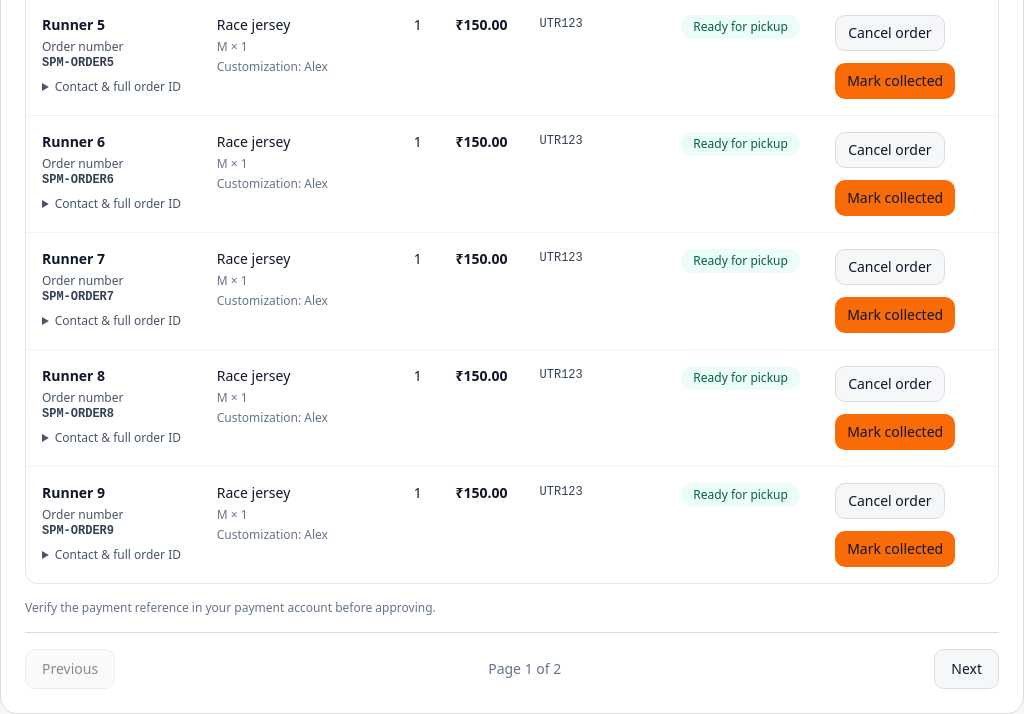
Test: filters and paginates orders, and confirms rejection before submitting
The image size is (1024, 714).
(page scrolled)
expect the text "Runner 11" is not shown: met
Click the button "Next" at (967, 669), box [934,649,999,689]
(page scrolled)
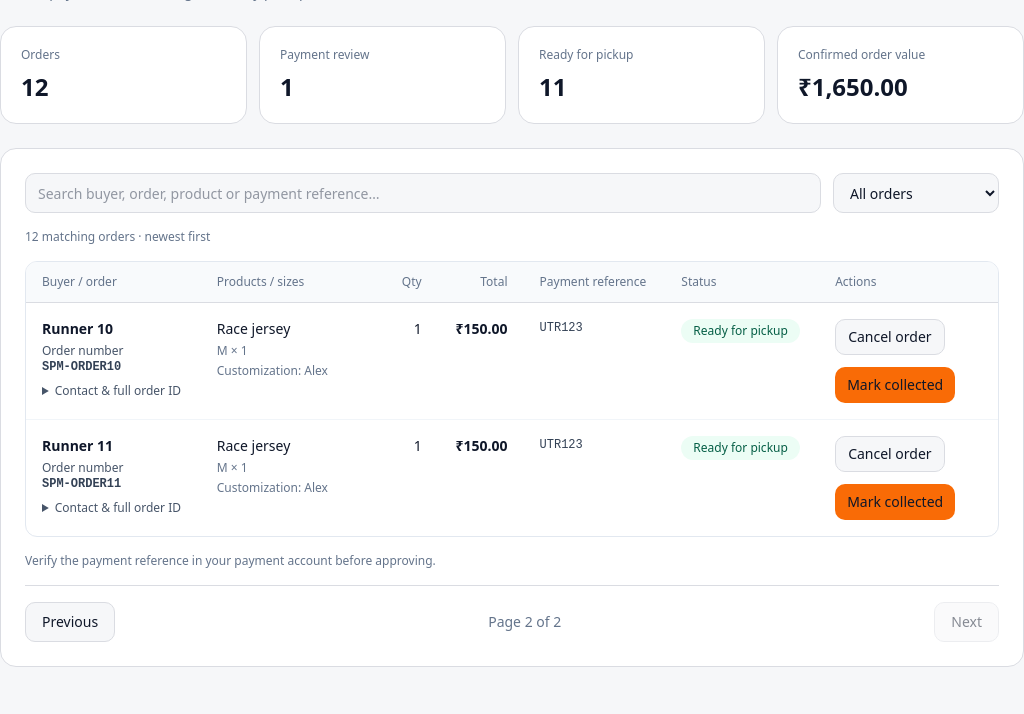
expect the text "Runner 11" is shown: met, box [42,436,113,455]
Select "Payment review" in the dropdown named "Order status" at (916, 193), box [833,173,999,213]
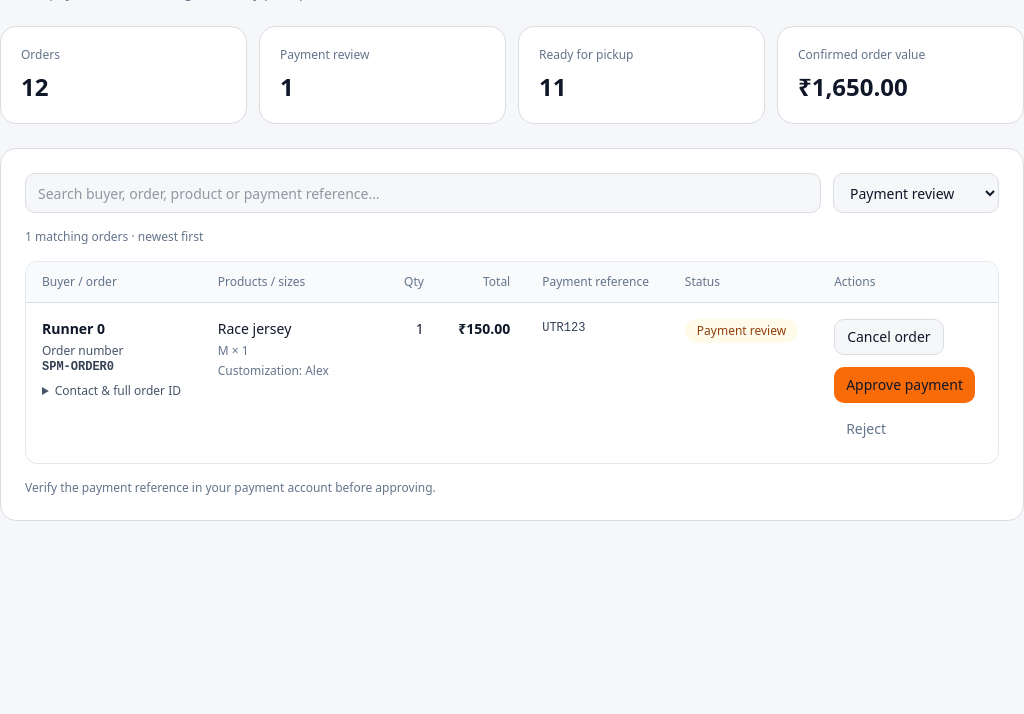
expect the text "Runner 0" is shown: met, box [42,319,105,338]
Click the button "Reject" at (866, 429), box [834,411,898,447]
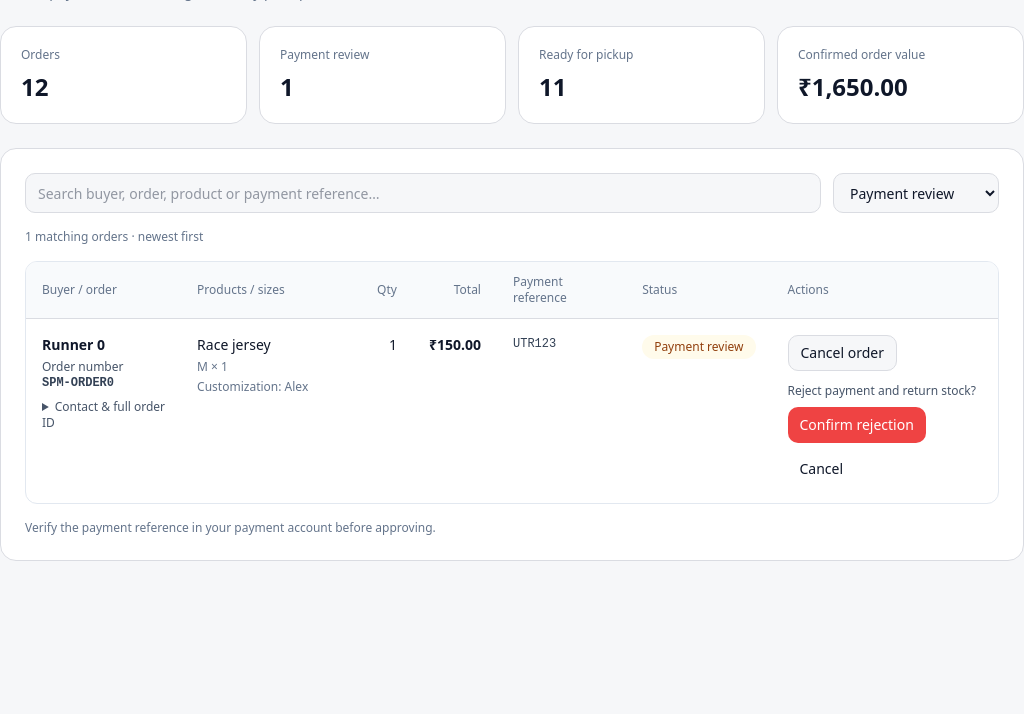
Click the button "Confirm rejection" at (857, 425), box [788,407,926,443]
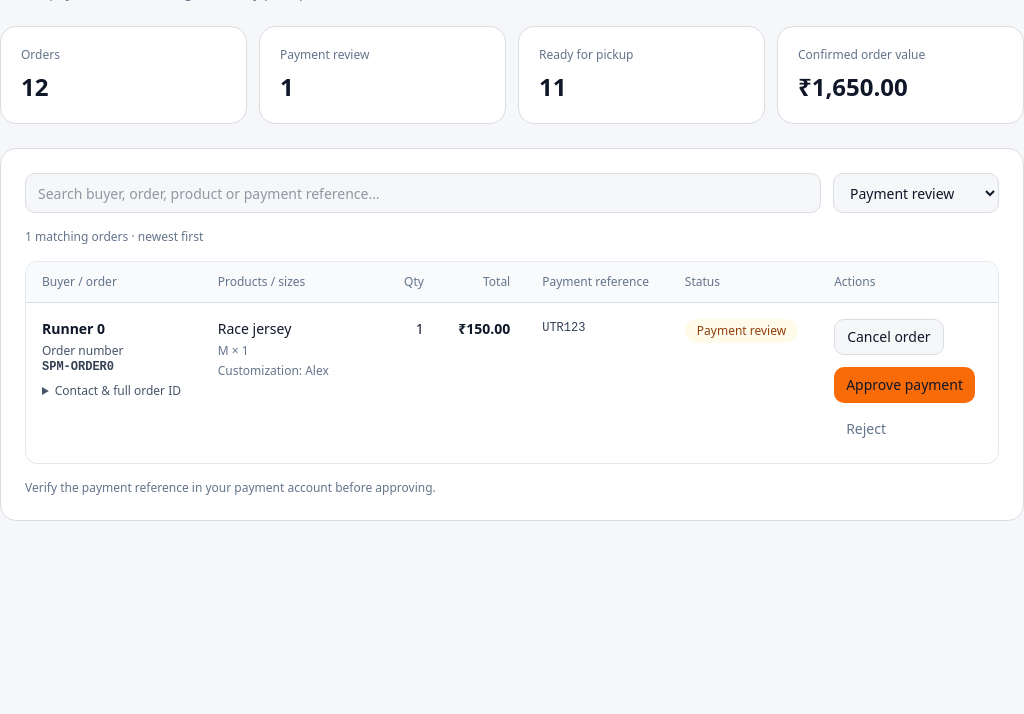
Type "missing" into the field named "Search orders" at (423, 193), box [25,173,821,213]
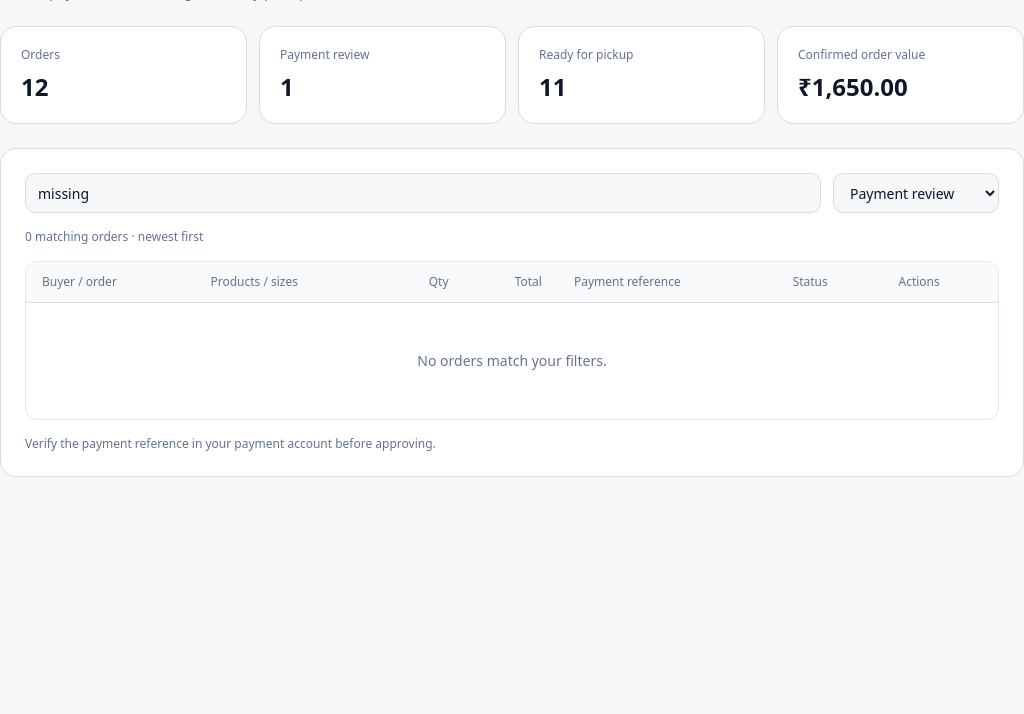
expect the text "No orders match your filters." is shown: met, box [26,303,998,419]
